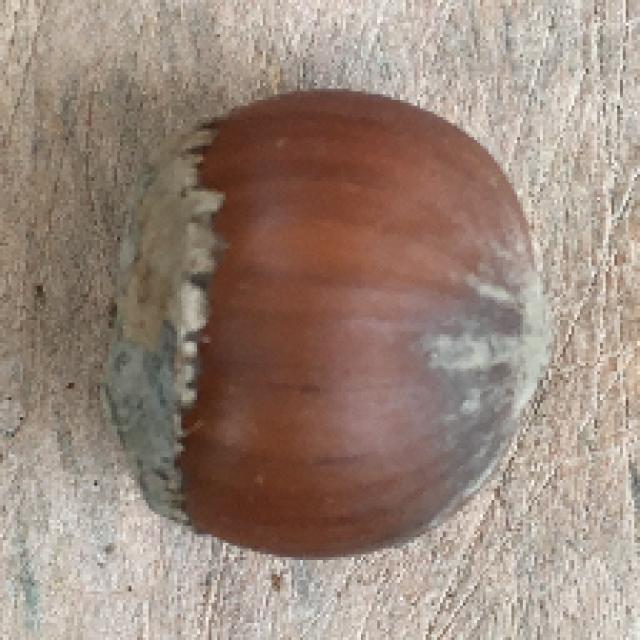damagedHazelnut: (99, 91, 549, 554)
